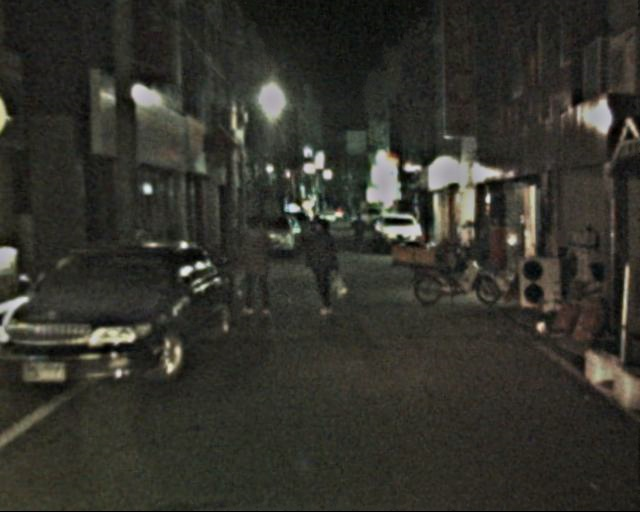person: (233, 217, 276, 316), (304, 220, 345, 316), (351, 214, 366, 250)
